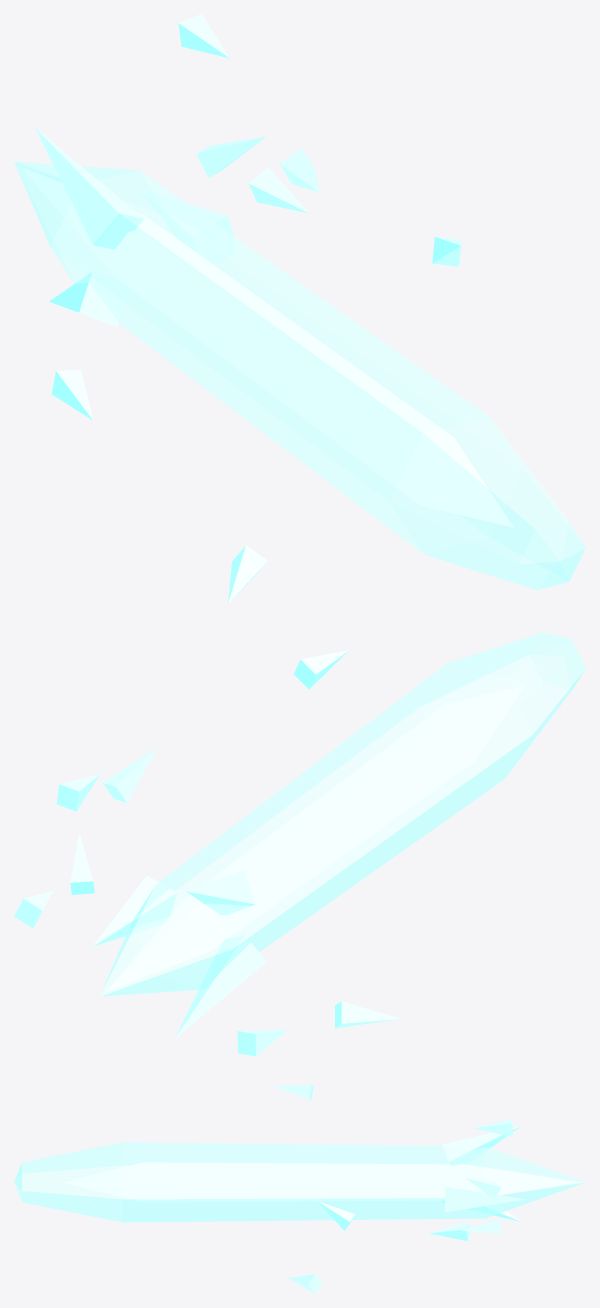
File: fx_ice_spear_v01.glb
3 views of the same model, one above another, from view 1: azimuth 30°, elevation 25°; view 2: azimuth 150°, elevation 25°; view 3: azimuth 270°, elevation 25° (orthographic). The views are drawn at different scales.
Visible parts, largest first — view 1: ice_spear; view 2: ice_spear; view 3: ice_spear.
Boxes of the visible parts, bbox=[...] form: ice_spear: bbox=[14, 14, 585, 603]; ice_spear: bbox=[14, 632, 585, 1056]; ice_spear: bbox=[14, 1085, 585, 1293].
Bounding box in the file's own units: 0.4431 × 0.6031 × 1.42.
